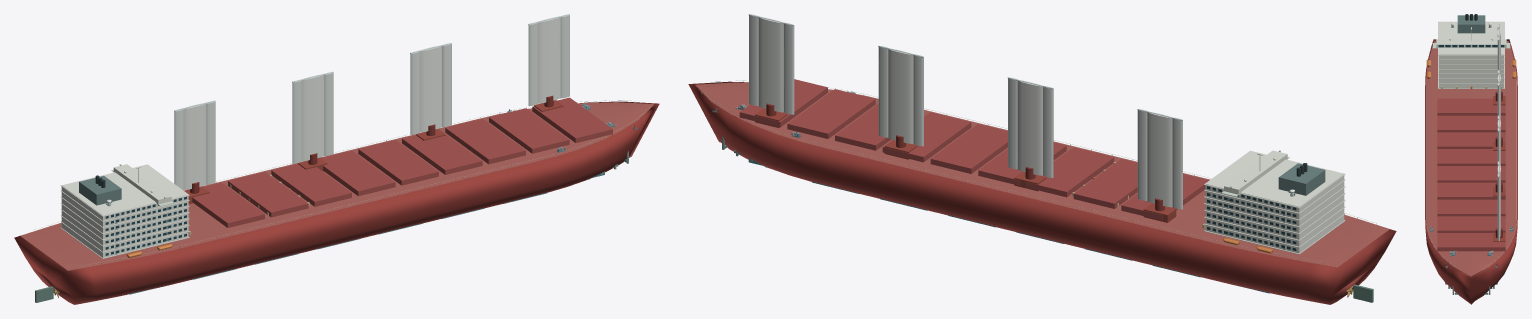
Rendered from berge-olympus.lod0.glb.
3 renders of one model, left to right at view 1: azimuth 30°, elevation 25°; view 2: azimuth 150°, elevation 25°; view 3: azimuth 270°, elevation 25°, orthographic. The views are drawn at different scales.
Parts seen in each view (by area): view 1: berge-olympus.structure.hull.outer-hull-shell.1, berge-olympus.structure.decks.main-strength-deck.1, berge-olympus.structure.hull.antifouling-underwater-shell.1, berge-olympus.accommodation.superstructure.deck-7-enclosure., berge-olympus.cargo.hatches.hatch-cover-5.1, berge-olympus.cargo.hatches.hatch-cover-7.1, berge-olympus.cargo.hatches.hatch-cover-8.1, berge-olympus.cargo.hatches.hatch-cover-2.1, berge-olympus.cargo.hatches.hatch-cover-4.1, berge-olympus.cargo.hatches.hatch-cover-3.1, berge-olympus.cargo.wind-assistance.windwing-3.1, berge-olympus.cargo.wind-assistance.windwing-4.1 (+21 smaller); view 2: berge-olympus.structure.hull.outer-hull-shell.1, berge-olympus.structure.decks.main-strength-deck.1, berge-olympus.structure.hull.antifouling-underwater-shell.1, berge-olympus.accommodation.superstructure.deck-7-enclosure., berge-olympus.cargo.hatches.hatch-cover-8.1, berge-olympus.cargo.wind-assistance.windwing-2.1, berge-olympus.cargo.wind-assistance.windwing-3.1, berge-olympus.cargo.wind-assistance.windwing-4.1, berge-olympus.cargo.wind-assistance.windwing-1.1, berge-olympus.cargo.hatches.hatch-cover-5.1, berge-olympus.cargo.hatches.hatch-cover-3.1, berge-olympus.cargo.hatches.hatch-cover-2.1 (+21 smaller); view 3: berge-olympus.structure.decks.main-strength-deck.1, berge-olympus.structure.hull.outer-hull-shell.1, berge-olympus.accommodation.superstructure.deck-7-enclosure., berge-olympus.cargo.hatches.hatch-cover-9.1, berge-olympus.cargo.hatches.hatch-cover-2.1, berge-olympus.cargo.hatches.hatch-cover-7.1, berge-olympus.cargo.hatches.hatch-cover-5.1, berge-olympus.cargo.hatches.hatch-cover-1.1, berge-olympus.cargo.hatches.hatch-cover-8.1, berge-olympus.cargo.hatches.hatch-cover-4.1, berge-olympus.cargo.hatches.hatch-cover-6.1, berge-olympus.cargo.hatches.hatch-cover-3.1 (+21 smaller).
Boxes of the visible parts, left/top/right/bottom form: berge-olympus.structure.hull.outer-hull-shell.1: left=14, top=101, right=659, bottom=297; berge-olympus.structure.decks.main-strength-deck.1: left=21, top=102, right=653, bottom=270; berge-olympus.structure.hull.antifouling-underwater-shell.1: left=31, top=139, right=640, bottom=304; berge-olympus.accommodation.superstructure.deck-7-enclosure.: left=61, top=164, right=188, bottom=220; berge-olympus.cargo.hatches.hatch-cover-5.1: left=358, top=140, right=438, bottom=185; berge-olympus.cargo.hatches.hatch-cover-7.1: left=445, top=118, right=525, bottom=164; berge-olympus.cargo.hatches.hatch-cover-8.1: left=489, top=108, right=569, bottom=153; berge-olympus.cargo.hatches.hatch-cover-2.1: left=228, top=172, right=308, bottom=217; berge-olympus.cargo.hatches.hatch-cover-4.1: left=321, top=150, right=395, bottom=196; berge-olympus.cargo.hatches.hatch-cover-3.1: left=271, top=164, right=351, bottom=206; berge-olympus.cargo.wind-assistance.windwing-3.1: left=420, top=46, right=442, bottom=132; berge-olympus.cargo.wind-assistance.windwing-4.1: left=538, top=17, right=560, bottom=103; berge-olympus.structure.hull.outer-hull-shell.1: left=688, top=81, right=1396, bottom=297; berge-olympus.structure.decks.main-strength-deck.1: left=695, top=82, right=1389, bottom=267; berge-olympus.structure.hull.antifouling-underwater-shell.1: left=709, top=123, right=1377, bottom=304; berge-olympus.accommodation.superstructure.deck-7-enclosure.: left=1205, top=151, right=1344, bottom=212; berge-olympus.cargo.hatches.hatch-cover-8.1: left=787, top=89, right=875, bottom=138; berge-olympus.cargo.wind-assistance.windwing-2.1: left=1017, top=80, right=1042, bottom=175; berge-olympus.cargo.wind-assistance.windwing-3.1: left=888, top=49, right=913, bottom=143; berge-olympus.cargo.wind-assistance.windwing-4.1: left=758, top=17, right=783, bottom=112; berge-olympus.cargo.wind-assistance.windwing-1.1: left=1147, top=112, right=1172, bottom=207; berge-olympus.cargo.hatches.hatch-cover-5.1: left=930, top=124, right=1007, bottom=173; berge-olympus.cargo.hatches.hatch-cover-3.1: left=1026, top=147, right=1114, bottom=197; berge-olympus.cargo.hatches.hatch-cover-2.1: left=1073, top=159, right=1137, bottom=208; berge-olympus.structure.decks.main-strength-deck.1: left=1426, top=41, right=1516, bottom=276; berge-olympus.structure.hull.outer-hull-shell.1: left=1425, top=39, right=1517, bottom=295; berge-olympus.accommodation.superstructure.deck-7-enclosure.: left=1439, top=21, right=1503, bottom=58; berge-olympus.cargo.hatches.hatch-cover-9.1: left=1437, top=233, right=1505, bottom=251; berge-olympus.cargo.hatches.hatch-cover-2.1: left=1437, top=115, right=1505, bottom=132; berge-olympus.cargo.hatches.hatch-cover-7.1: left=1437, top=199, right=1505, bottom=216; berge-olympus.cargo.hatches.hatch-cover-5.1: left=1437, top=166, right=1505, bottom=182; berge-olympus.cargo.hatches.hatch-cover-1.1: left=1437, top=98, right=1505, bottom=115; berge-olympus.cargo.hatches.hatch-cover-8.1: left=1437, top=216, right=1505, bottom=232; berge-olympus.cargo.hatches.hatch-cover-4.1: left=1437, top=149, right=1505, bottom=165; berge-olympus.cargo.hatches.hatch-cover-6.1: left=1437, top=182, right=1505, bottom=199; berge-olympus.cargo.hatches.hatch-cover-3.1: left=1437, top=132, right=1505, bottom=148.
Size of the model in its own units: 301 by 65.13 by 49.
